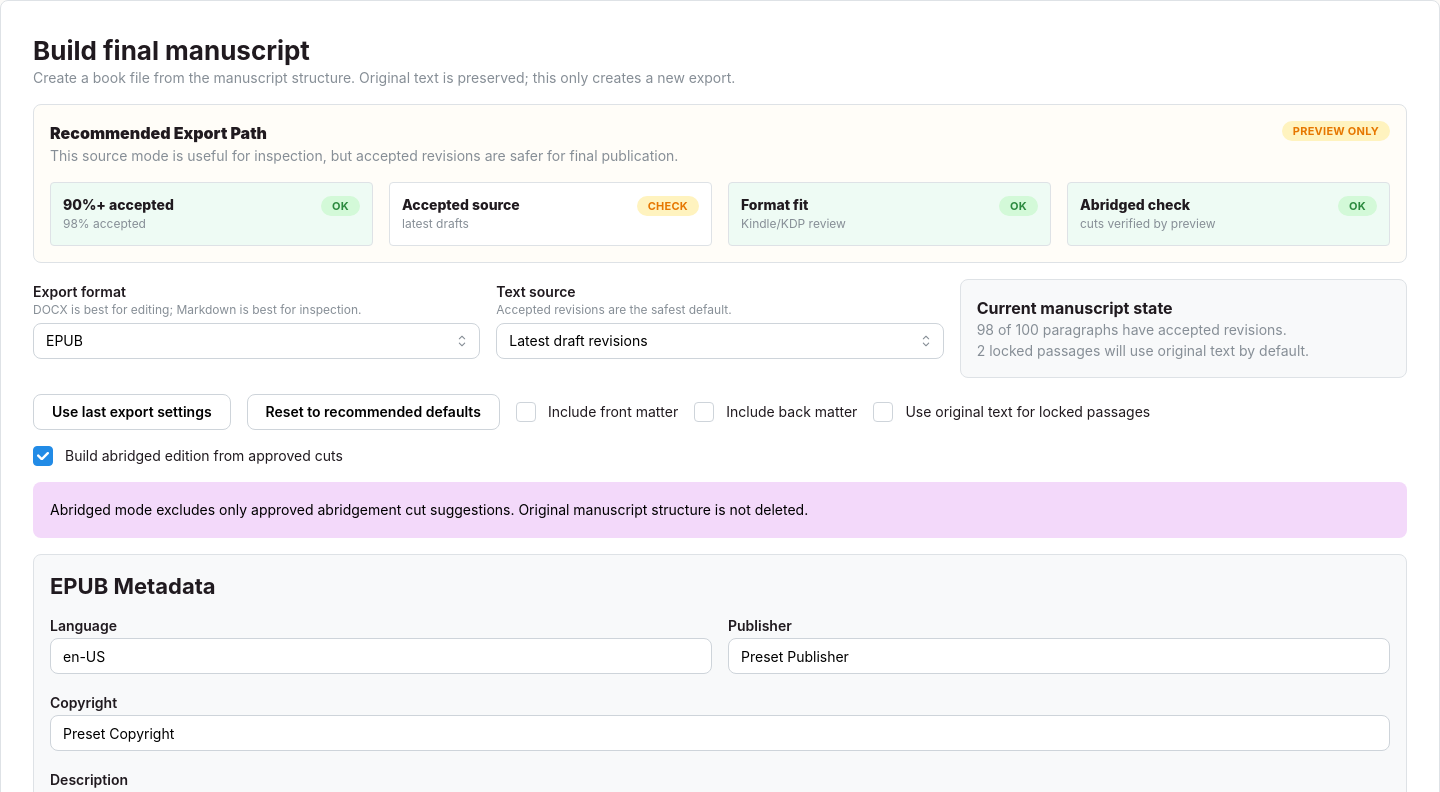
Test case: FinalManuscriptBuilder › prefills from latest defaults and supports reset + reapply
Expected: the field labelled "Language" holds "en-US", [50,638,712,674]
Step 1. Replace the text in the field labelled "Publisher" with "Changed Publisher" → (1059, 656), box [728,638,1390,674]
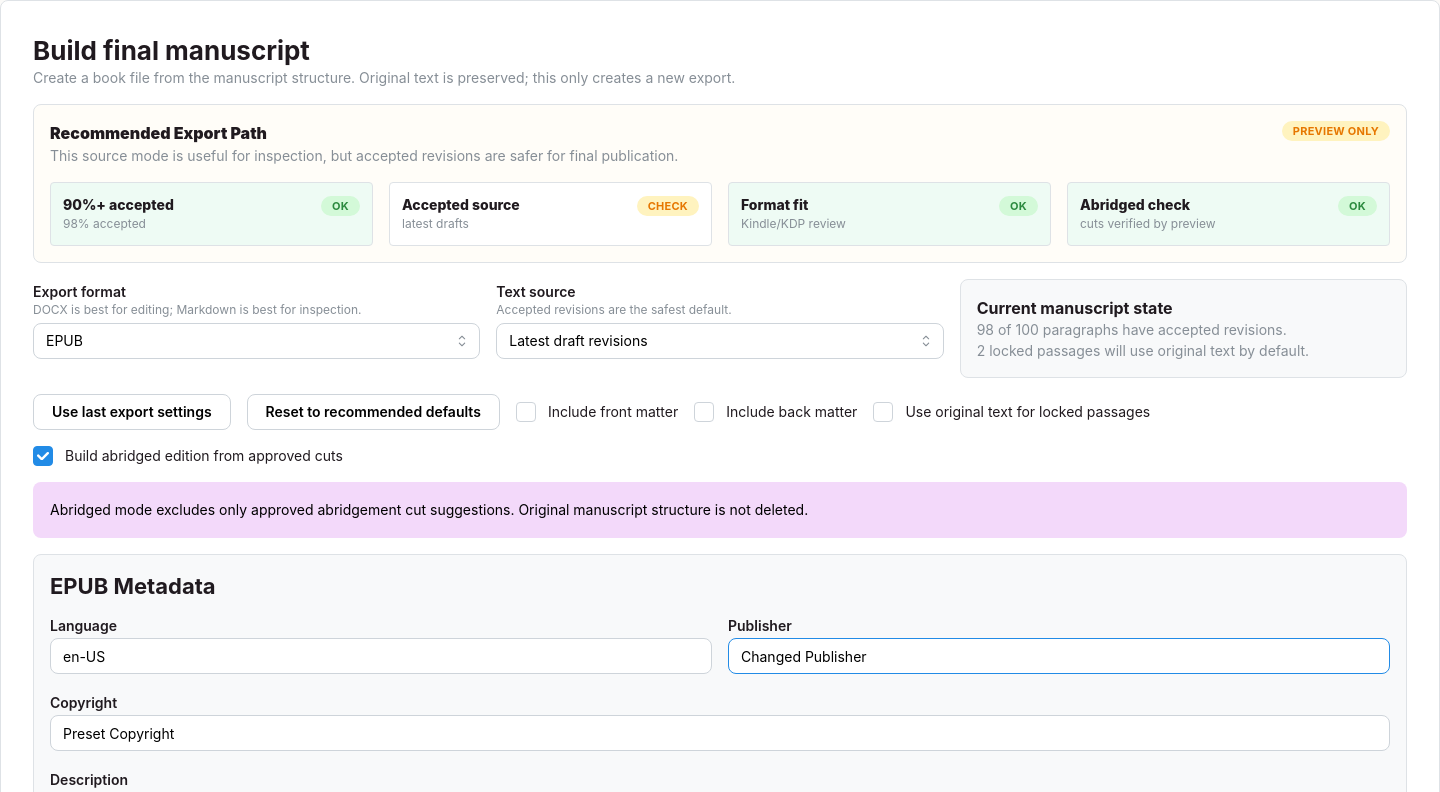
Step 2. Click the button "Reset to recommended defaults" → (373, 412), box [247,394,500,430]
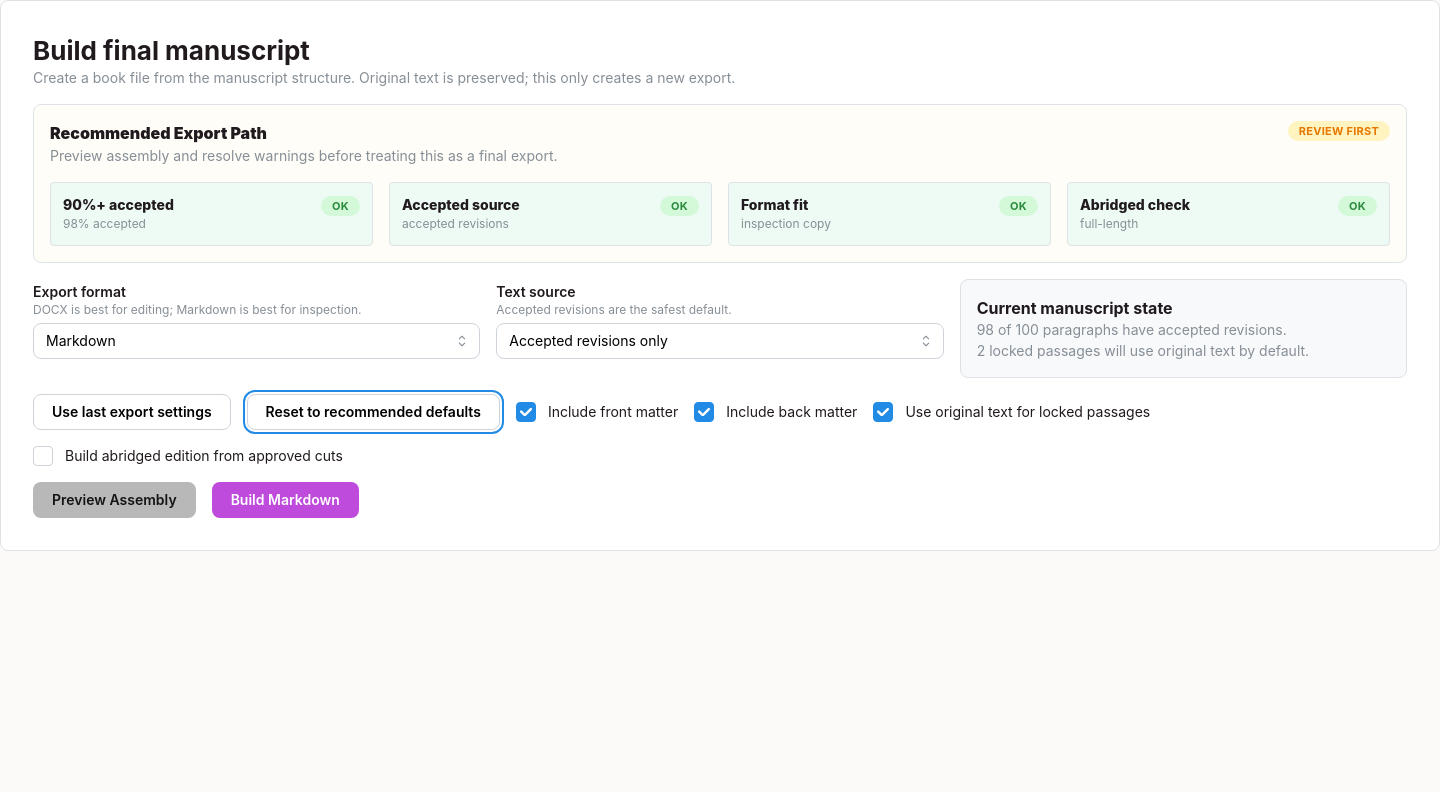
Result: the checkbox labelled "Include front matter" is checked at [516,402,536,422]
Result: the checkbox labelled "Include back matter" is checked at [694,402,714,422]
Result: the checkbox labelled "Build abridged edition from approved cuts" is not checked at [33,446,53,466]
Step 3. Click the button "Use last export settings" → (132, 412), box [33,394,231,430]
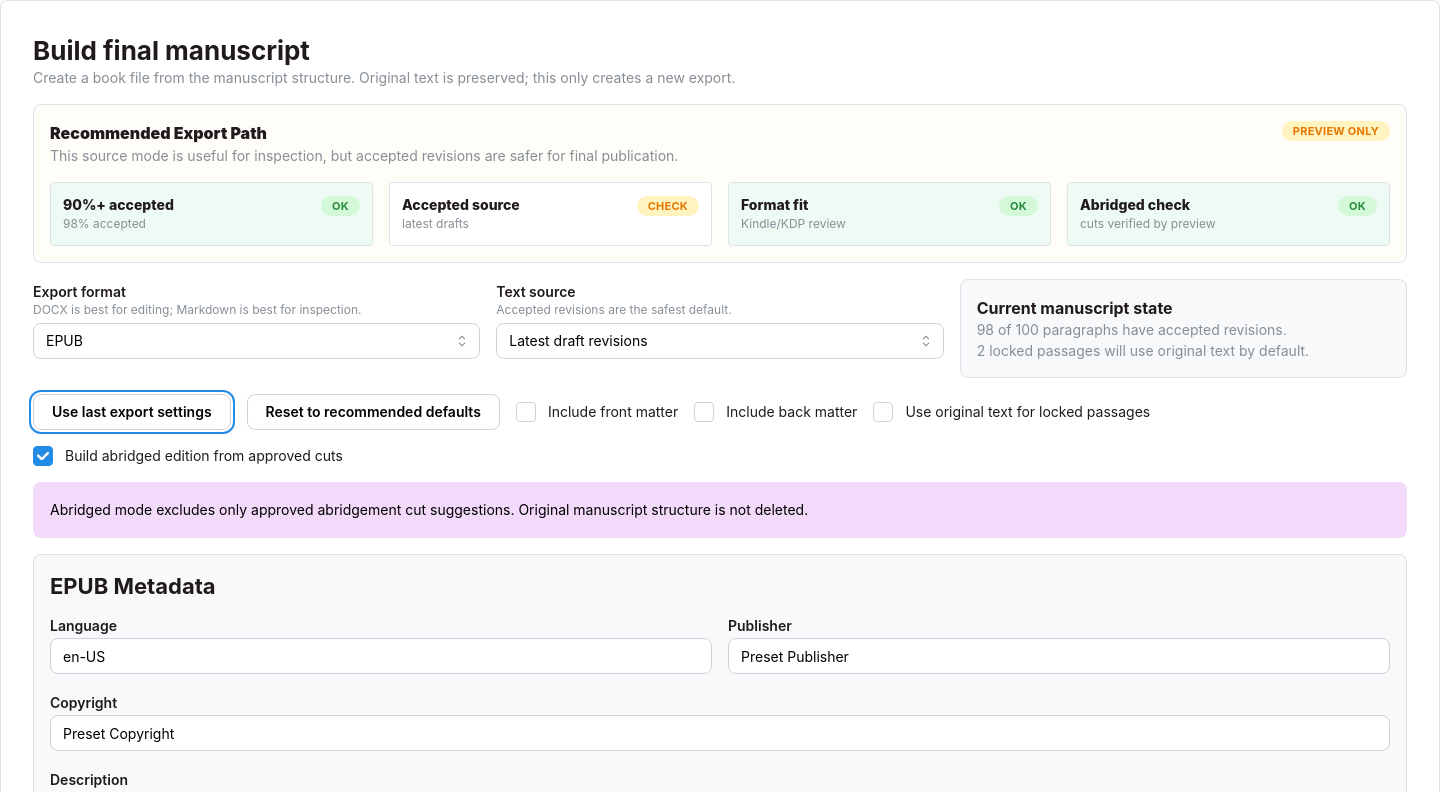
Result: the field labelled "Language" holds "en-US" at [50,638,712,674]
Result: the field labelled "Publisher" holds "Preset Publisher" at [728,638,1390,674]
Result: the checkbox labelled "Include front matter" is not checked at [516,402,536,422]
